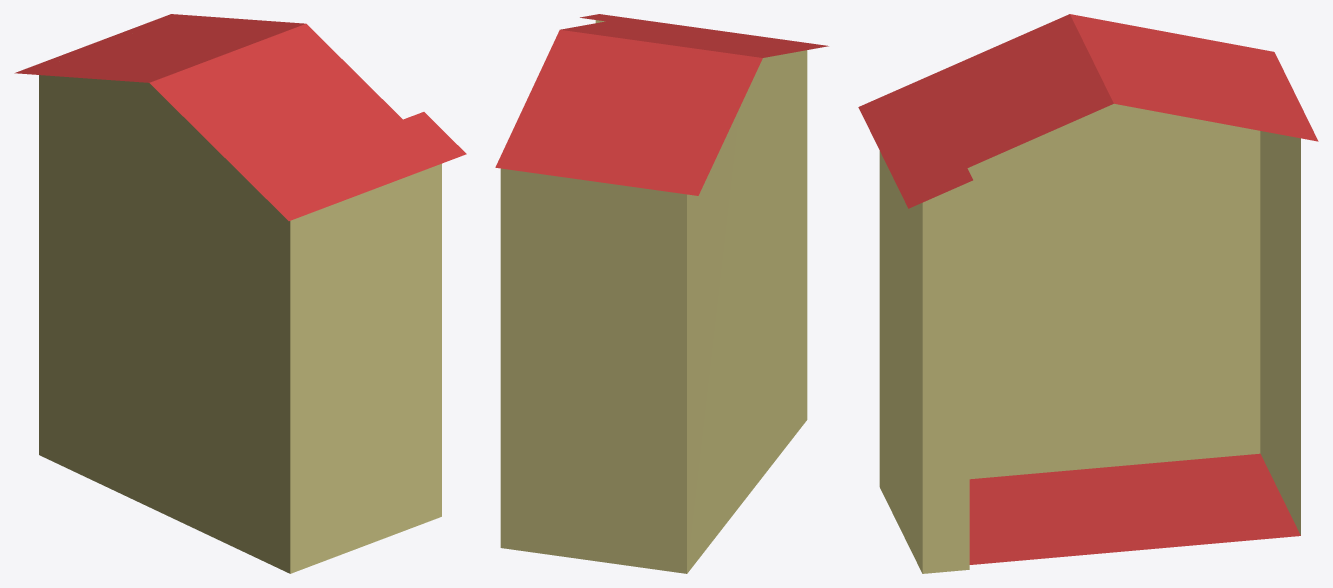
3 views of the same model, side by side, from view 1: azimuth 30°, elevation 25°; view 2: azimuth 150°, elevation 25°; view 3: azimuth 270°, elevation 25° (orthographic). The views are drawn at different scales.
Size of the model in its own units: 4.53 by 6.38 by 6.86.
